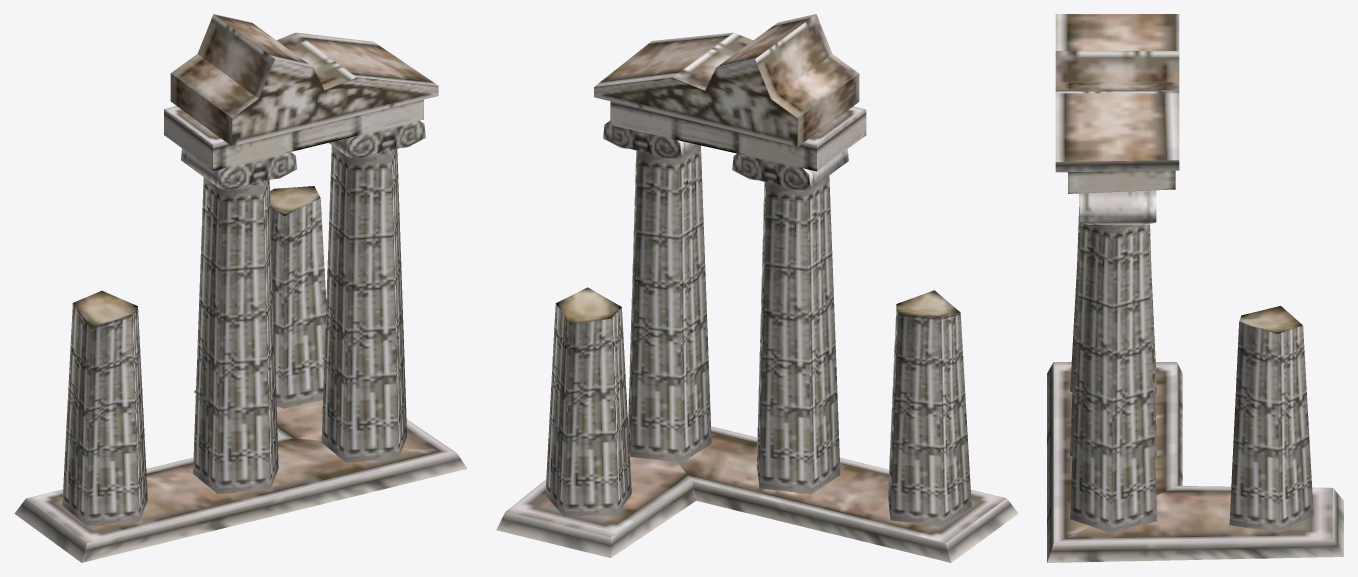
The model's file is idle.glb.
3 renders of one model, left to right at view 1: azimuth 30°, elevation 25°; view 2: azimuth 150°, elevation 25°; view 3: azimuth 270°, elevation 25°, orthographic.
Visible parts, largest first — view 1: MeshRoot; view 2: MeshRoot; view 3: MeshRoot.
Part boxes in pixels (box(x1,y1,x2,y2)): MeshRoot: box(14, 14, 467, 562); MeshRoot: box(496, 14, 1018, 562); MeshRoot: box(1047, 14, 1343, 562).
Size of the model in its own units: 4.91 by 5.5 by 3.24.
Materials: 1 (1 with a texture image).
